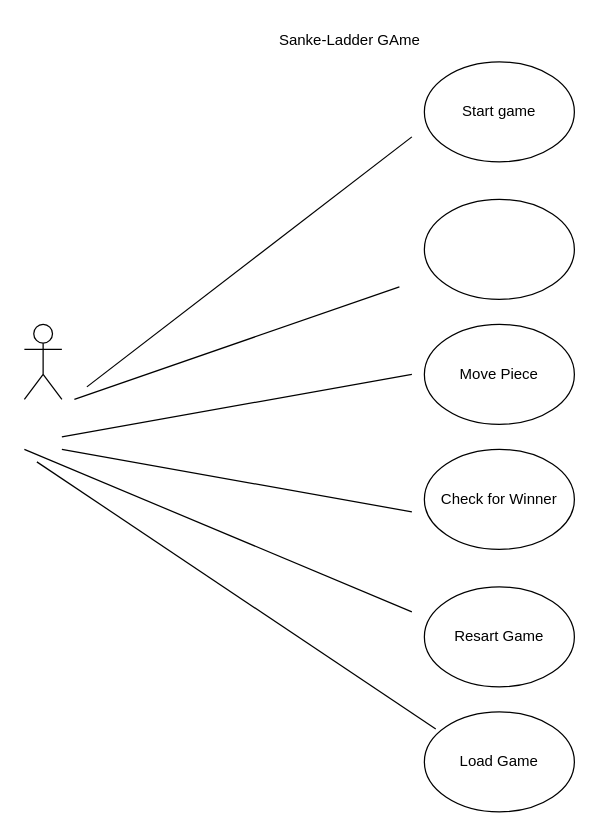
The diagram is 596 pixels wide and 834 high, and some of its shapes have lost their labels. Here are the shapes that lost their labels. From the top down, the box of each, then its label:
(423, 198, 574, 299): Roll dice
(23, 323, 62, 399): Player
